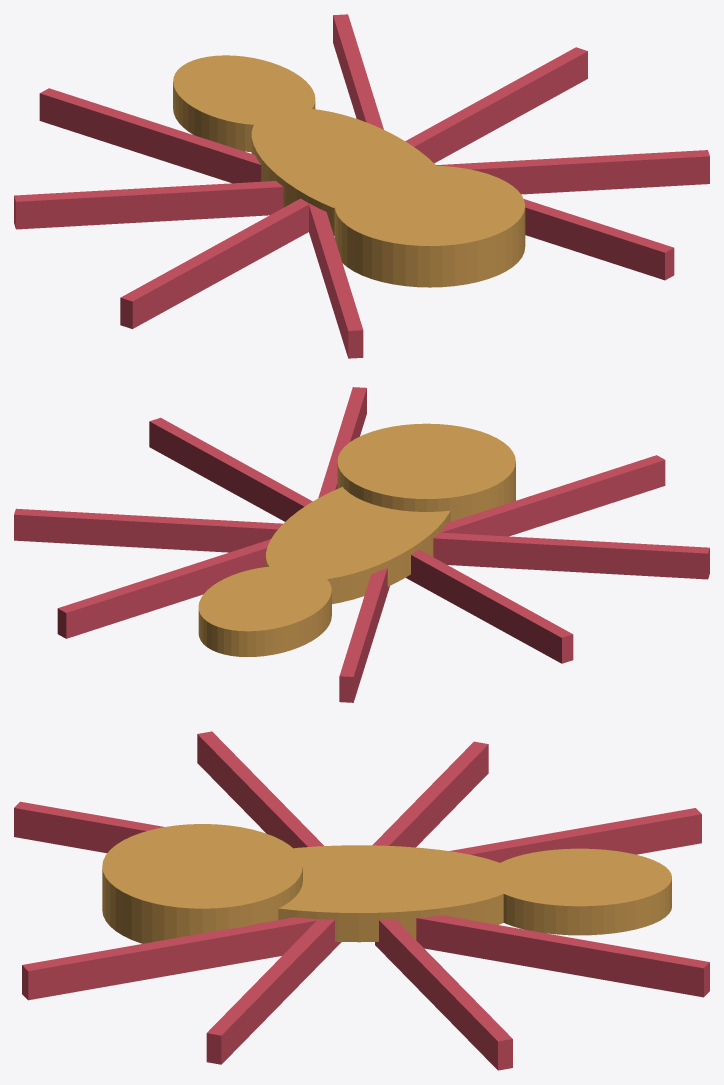
Rendered from pavyk.glb.
The picture shows the model from 3 angles, top to bottom: view 1: azimuth 30°, elevation 25°; view 2: azimuth 150°, elevation 25°; view 3: azimuth 270°, elevation 25°; orthographic projection. The views are drawn at different scales.
Visible parts, largest first — view 1: Mesh_Mesh_head_geo.001_lambert2SG.001; view 2: Mesh_Mesh_head_geo.001_lambert2SG.001; view 3: Mesh_Mesh_head_geo.001_lambert2SG.001.
Boxes of the visible parts, x1,y1,x2,y2 form: Mesh_Mesh_head_geo.001_lambert2SG.001: (14,14,709,358); Mesh_Mesh_head_geo.001_lambert2SG.001: (14,387,709,702); Mesh_Mesh_head_geo.001_lambert2SG.001: (14,731,709,1070).
Bounding box in the file's own units: 91.44 × 7 × 86.72.
